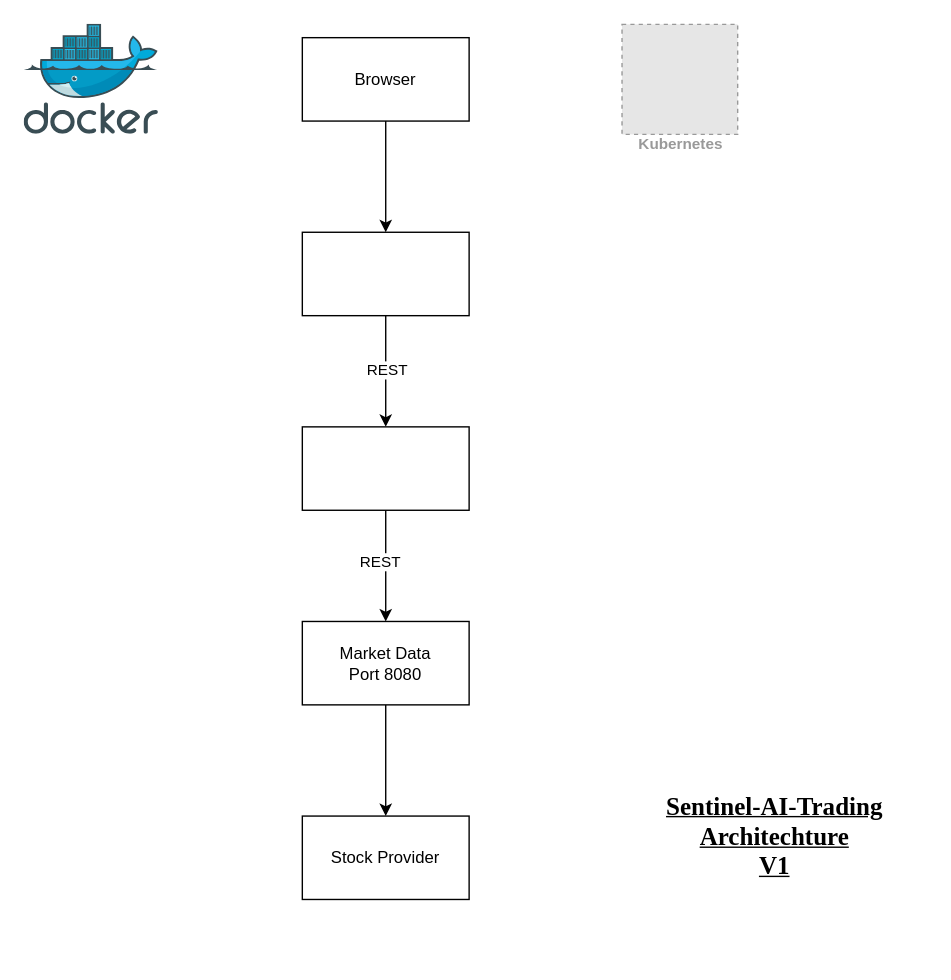
Some shapes in this 951 by 980 pixel diagram are drawn without their labels. Grey dashed boxes stand in for pictures. The centre of each missing label's shape, as x and y in pixels:
"React Frontend Port 5173" belongs at (385,273).
"Strategy Engine Port 8081" belongs at (385,467).
